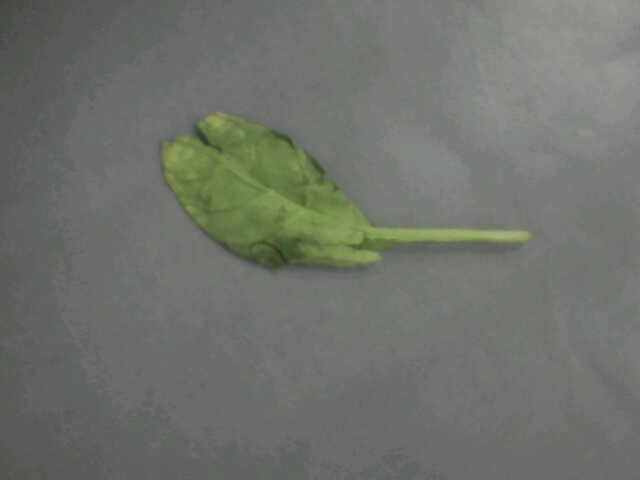yellow: (121, 66, 446, 288)
